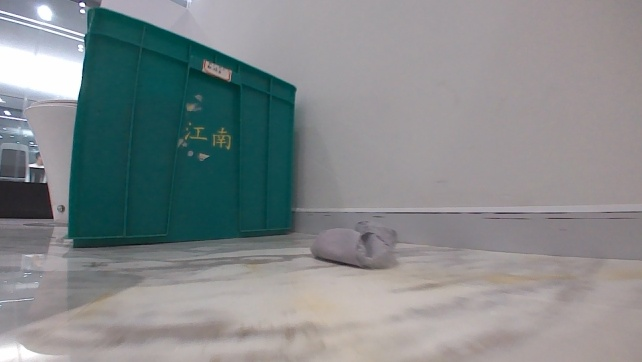socks: (306, 216, 400, 271)
toilet: (21, 97, 78, 226)
